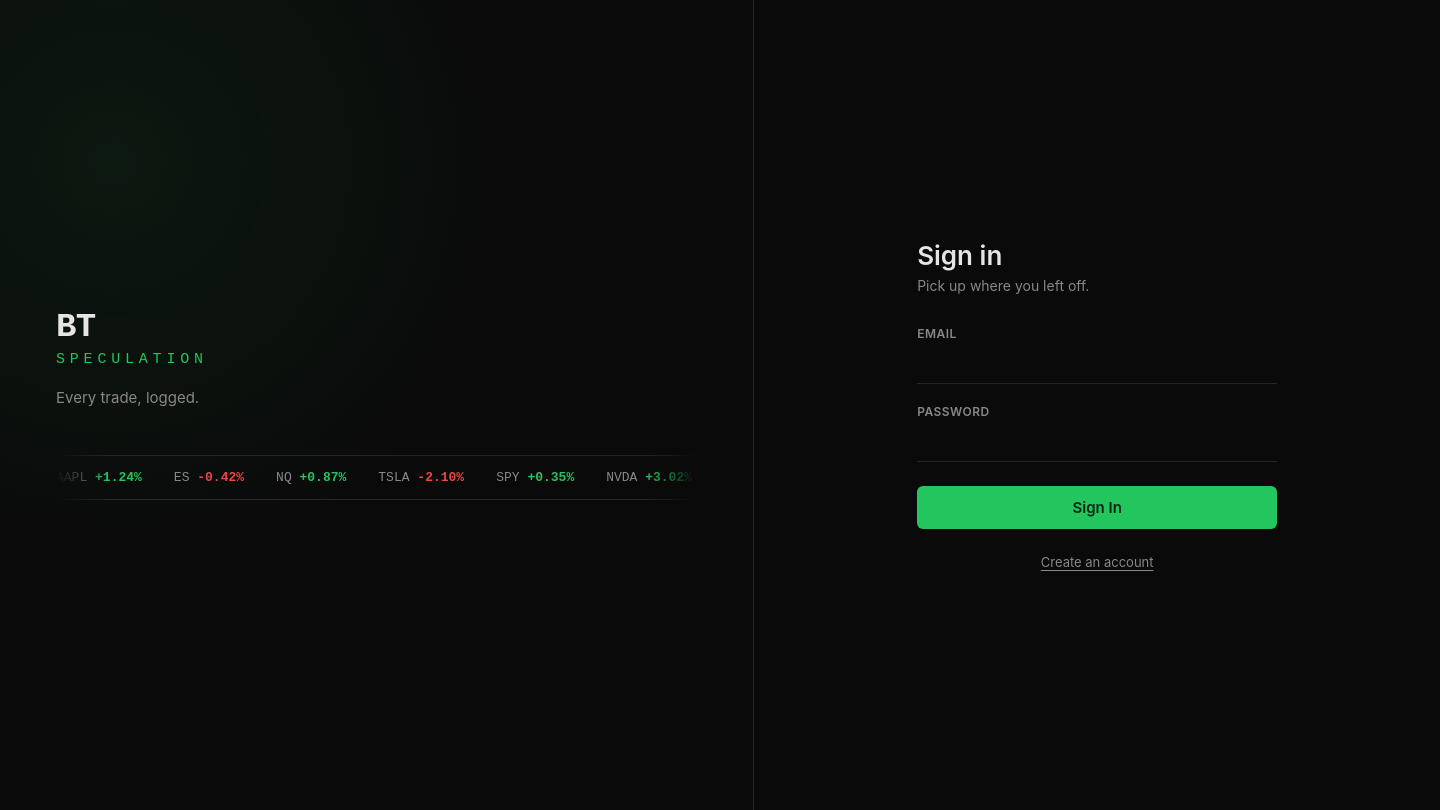
LoginPage › shows an inline error on failed sign-in
Step 1. Type "a@b.com" into the field labelled "Email" → [1097, 366], box [917,348,1277,384]
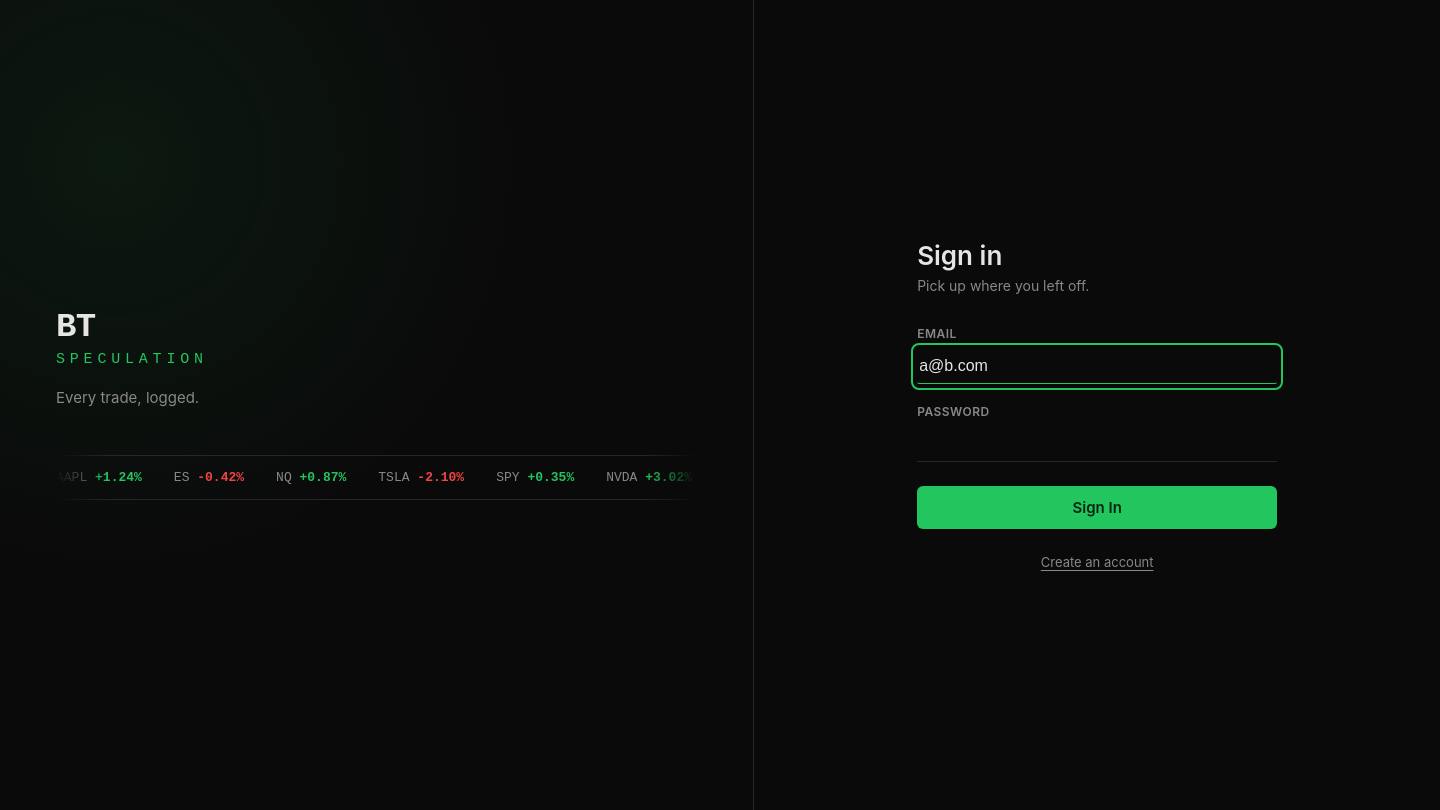
Step 2. Type "wrong" into the password field labelled "Password" → [1097, 444], box [917,426,1277,462]
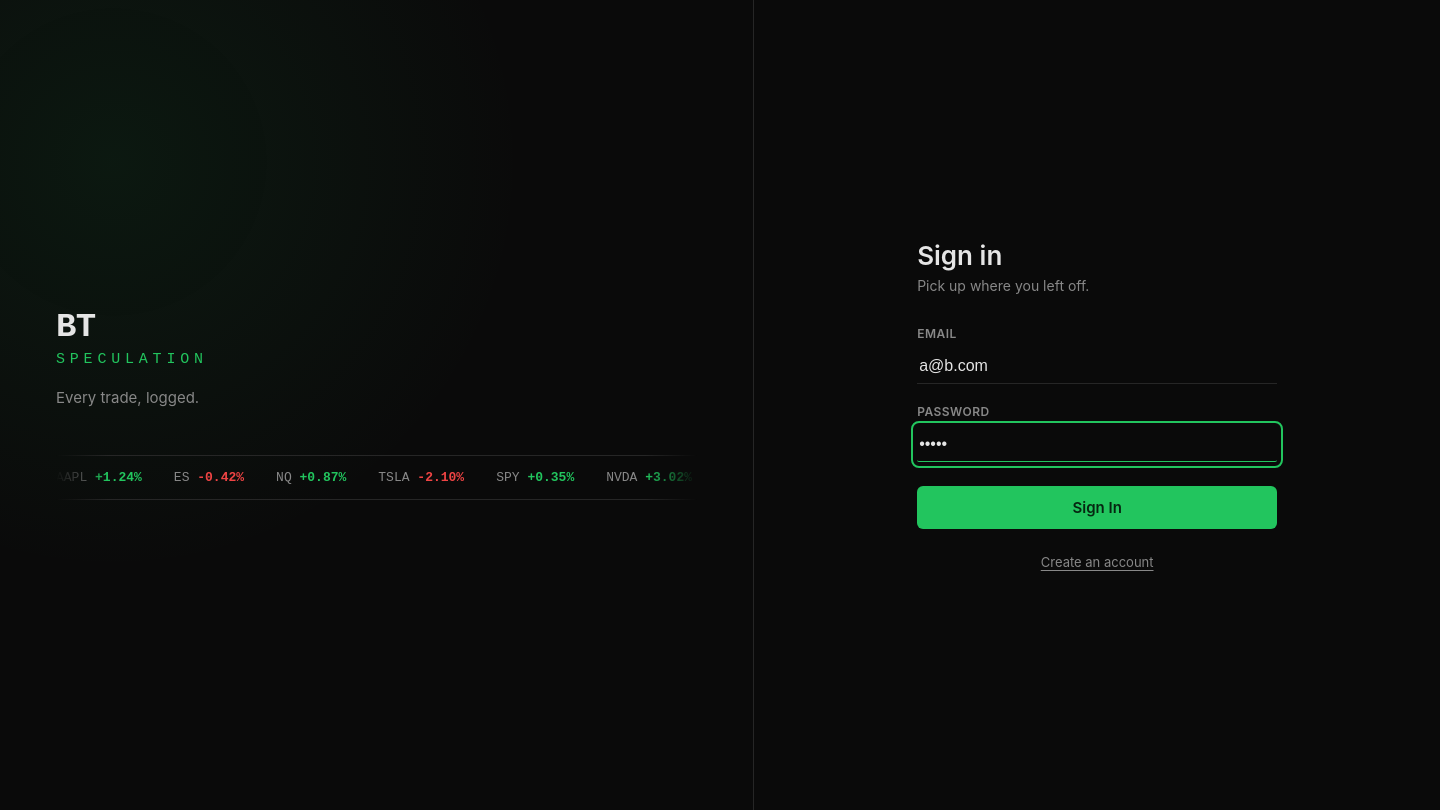
Step 3. Click the button "Sign In" → [1097, 507], box [917,486,1277,528]
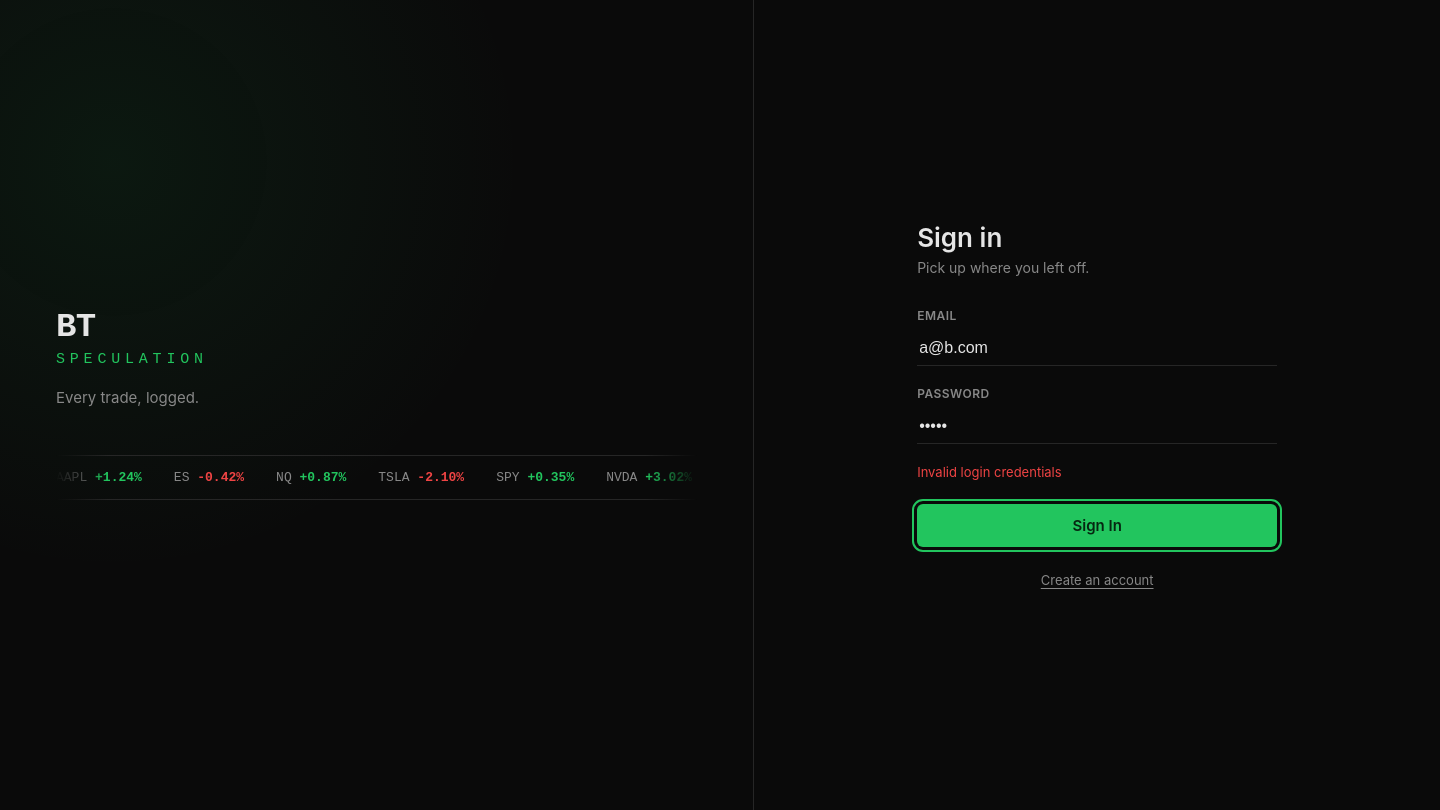
Expected: the text "Invalid login credentials" is shown, [917,464,1062,480]
